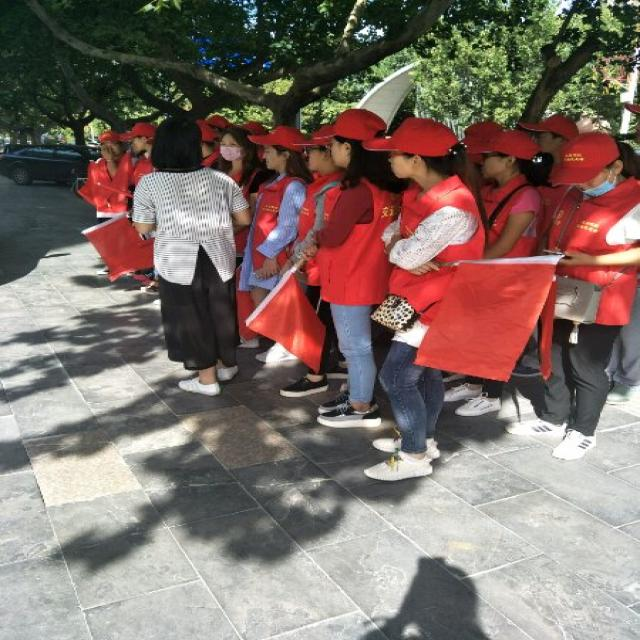10-: (76, 103, 638, 490)
